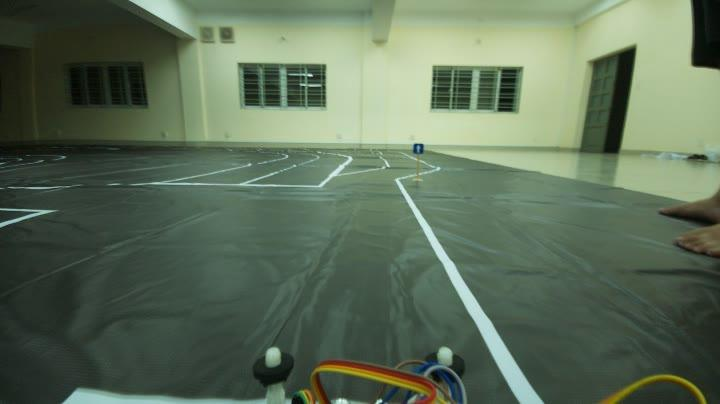onewayroad: (411, 141, 428, 155)
